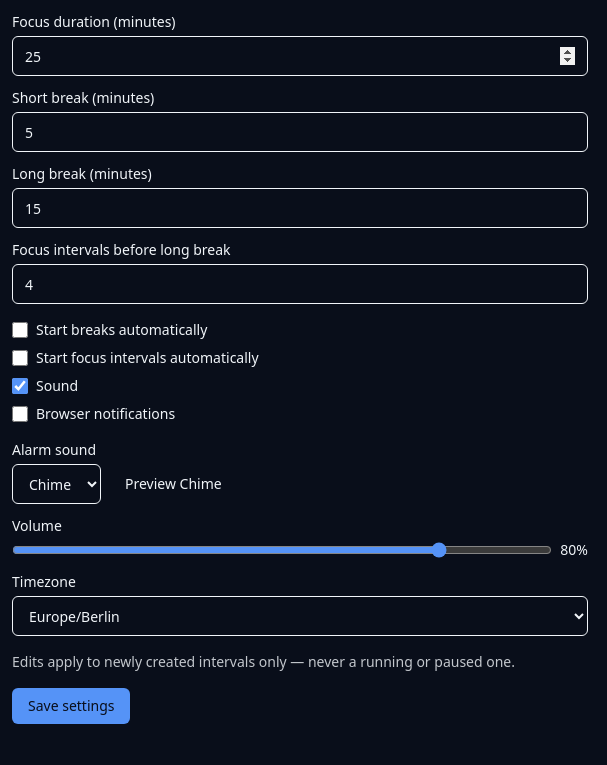
Test: <SettingsForm /> (spec §8.7) › associates server field errors with their inputs
Expected: the button "Save settings" is shown, [12,688,130,724]
Replace the text in the number field labelled "Focus duration (minutes)" with "60" at (300, 56), box [12,36,588,76]
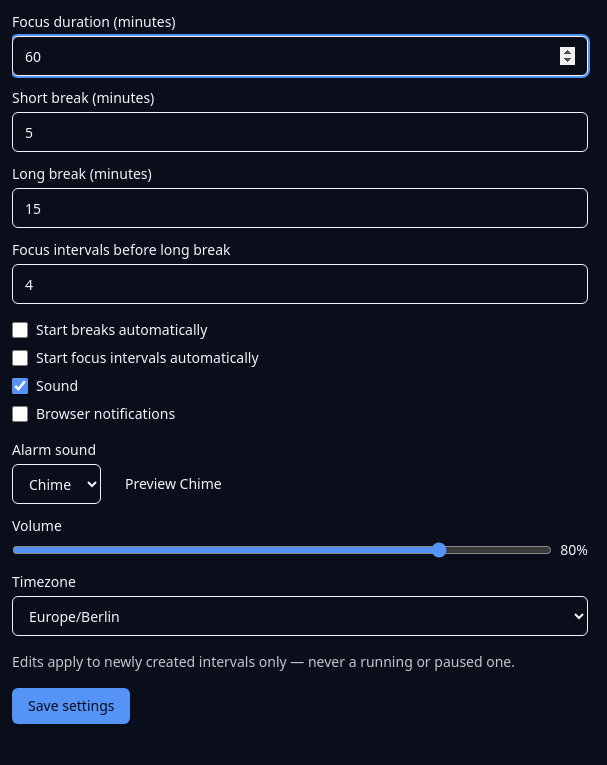
Click the button "Save settings" at (71, 706), box [12,688,130,724]
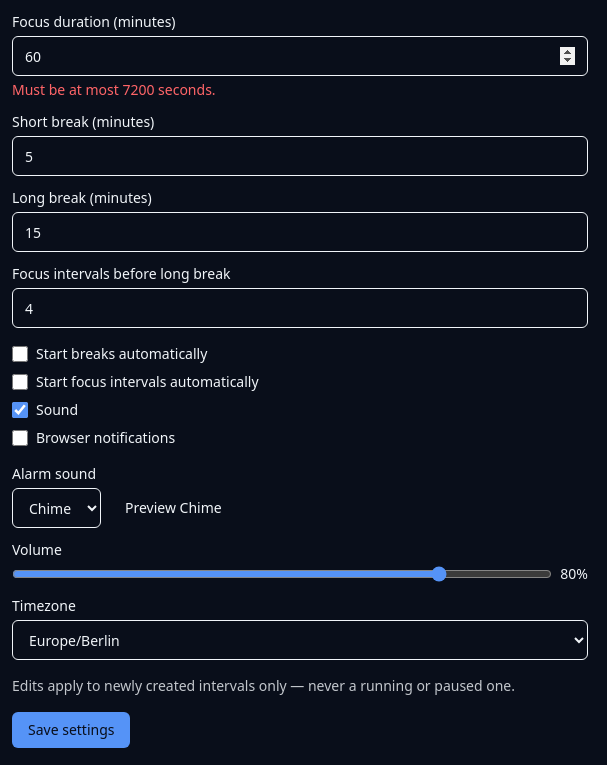
Expected: the message shows "at most 7200", [12,80,216,99]
